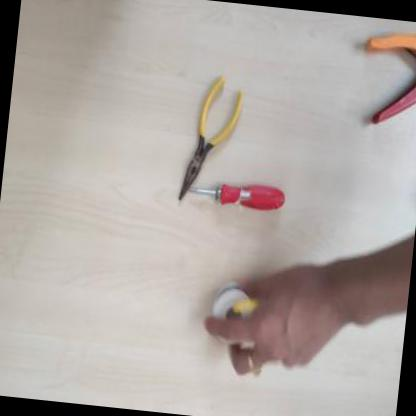Screwdriver: (185, 172, 289, 218)
